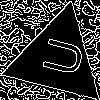U: (32, 33, 86, 79)
